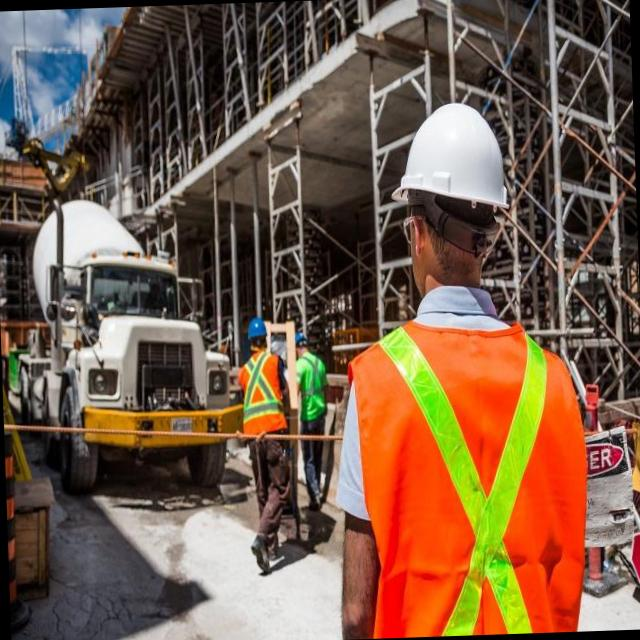Helmet: (393, 90, 512, 210), (246, 310, 268, 346), (296, 328, 314, 348)
Vest: (349, 310, 580, 634), (242, 355, 290, 443)
